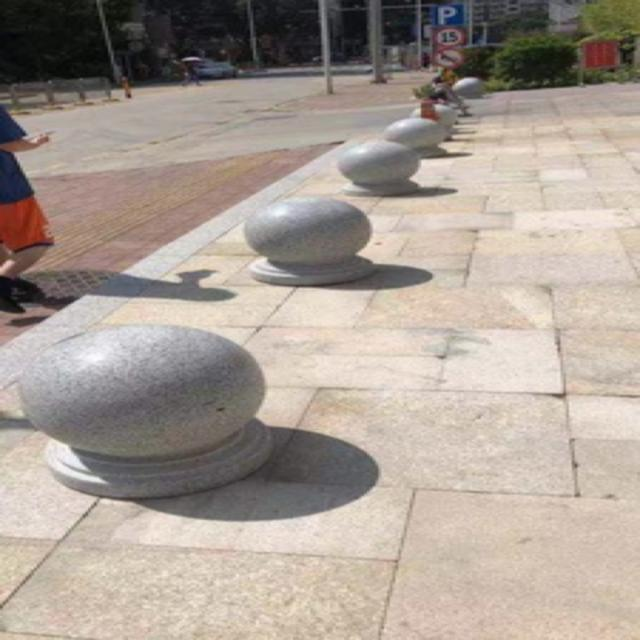spherical_roadblock: (17, 322, 273, 496), (245, 194, 378, 280), (333, 139, 415, 194), (381, 115, 450, 158)
